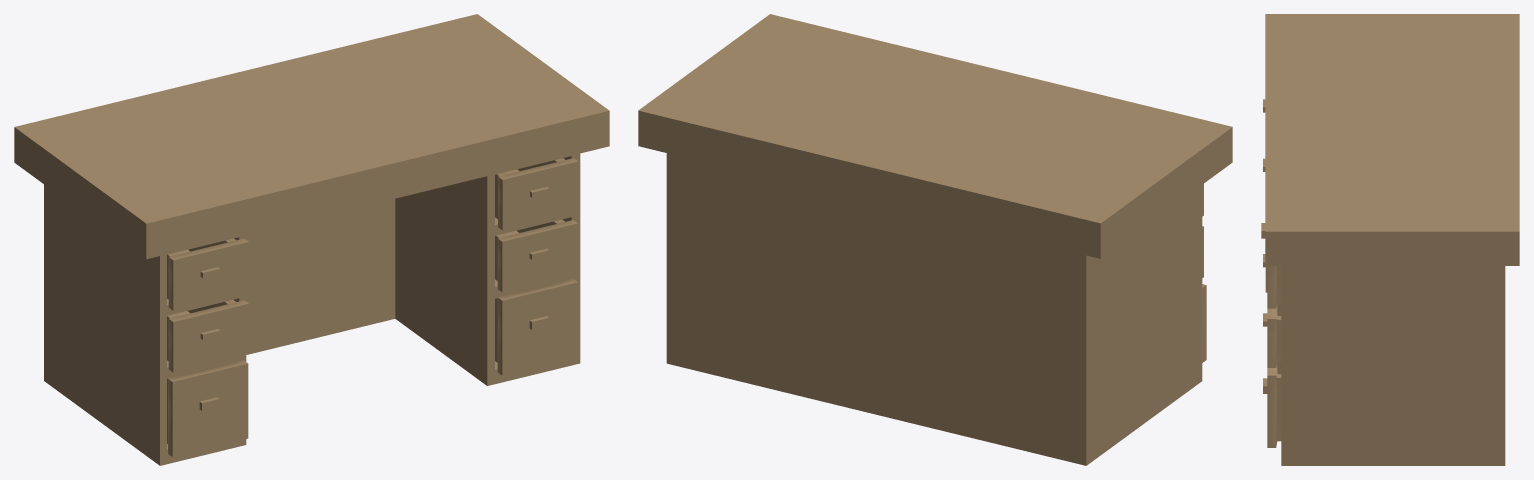
The model's file is desk.fbx.
3 views of the same model, side by side, from view 1: azimuth 30°, elevation 25°; view 2: azimuth 150°, elevation 25°; view 3: azimuth 270°, elevation 25° (orthographic). The views are drawn at different scales.
Parts seen in each view (by area): view 1: pCube1, pCube3, pCube2, pCube4, pCube7, pCube5, pCube6; view 2: pCube1; view 3: pCube1, pCube3, pCube4, pCube7.
Boxes of the visible parts, x1,y1,x2,y2 form: pCube1: (14, 14, 609, 465); pCube3: (495, 279, 577, 375); pCube2: (167, 360, 248, 456); pCube4: (495, 219, 577, 292); pCube7: (495, 158, 578, 230); pCube5: (167, 300, 248, 372); pCube6: (167, 238, 248, 310); pCube1: (638, 14, 1232, 465); pCube1: (1265, 14, 1519, 465); pCube3: (1263, 362, 1281, 447); pCube4: (1263, 303, 1281, 367); pCube7: (1263, 254, 1281, 308).
Size of the model in its own units: 4.82 by 2.52 by 2.42.
